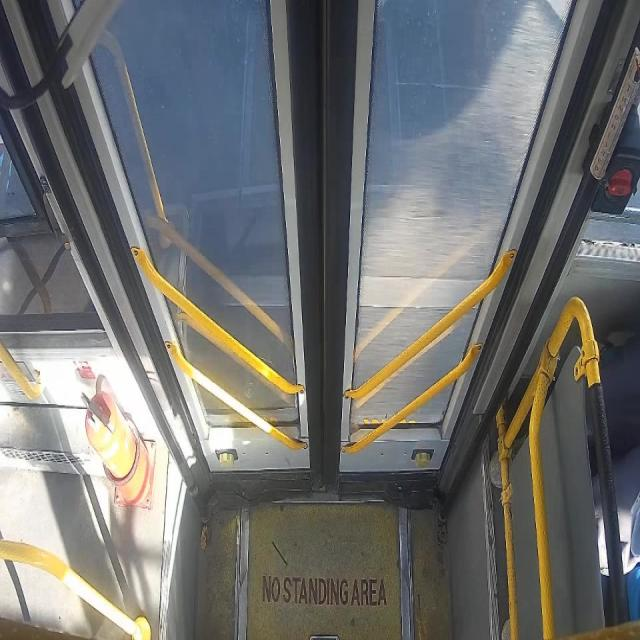close: (77, 1, 579, 487)
